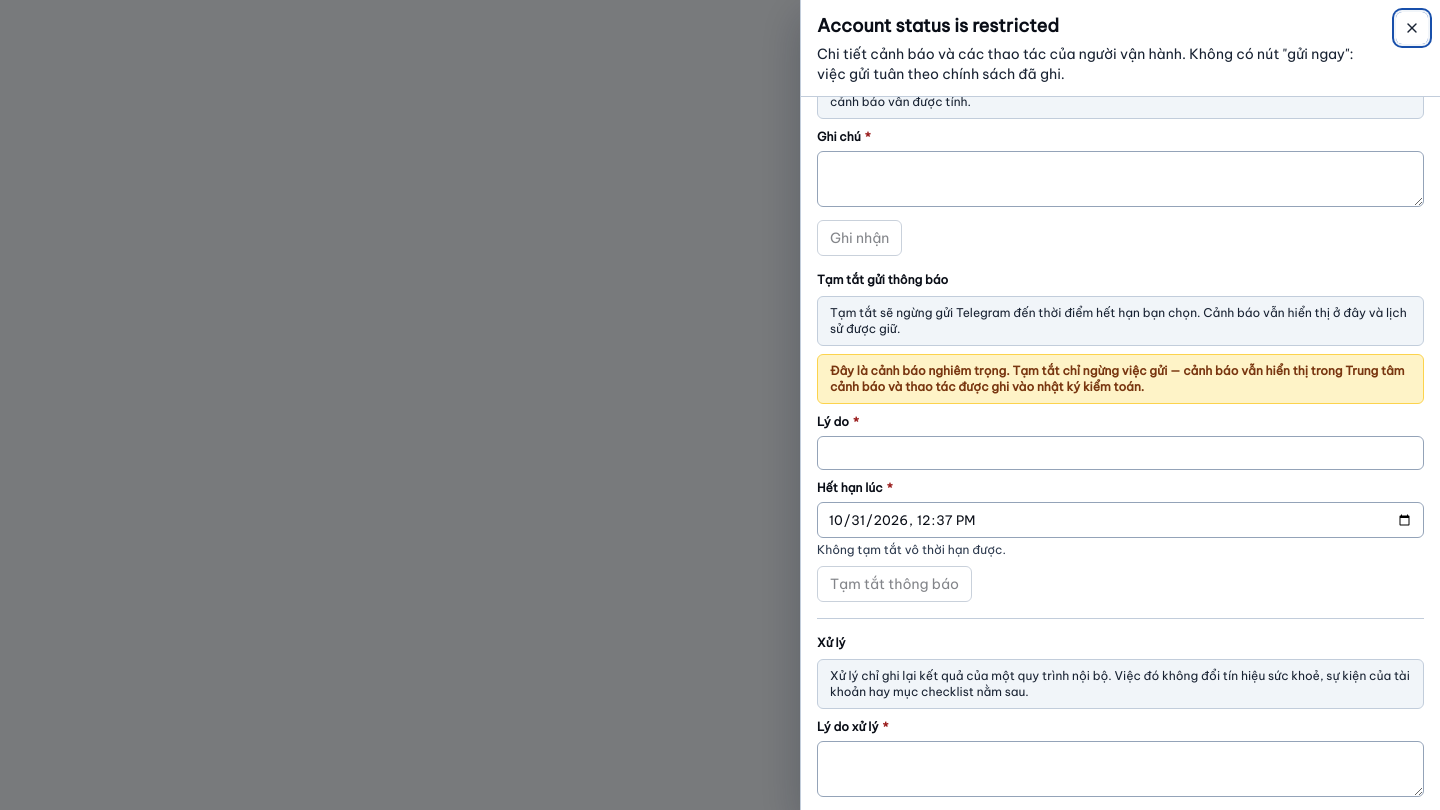
Test: alert drawer › requires a reason and a future expiry before suppressing, and warns on a critical alert
The width and height of the screenshot is (1440, 810).
(page scrolled)
Expected: the button "Tạm tắt thông báo" is disabled, [817,566,972,602]
Expected: the text "Tạm tắt chỉ ngừng việc gửi" is shown, [830,363,1404,394]
Type "Appeal filed." into the field labelled "Lý do*" at (1120, 453), box [817,436,1424,470]
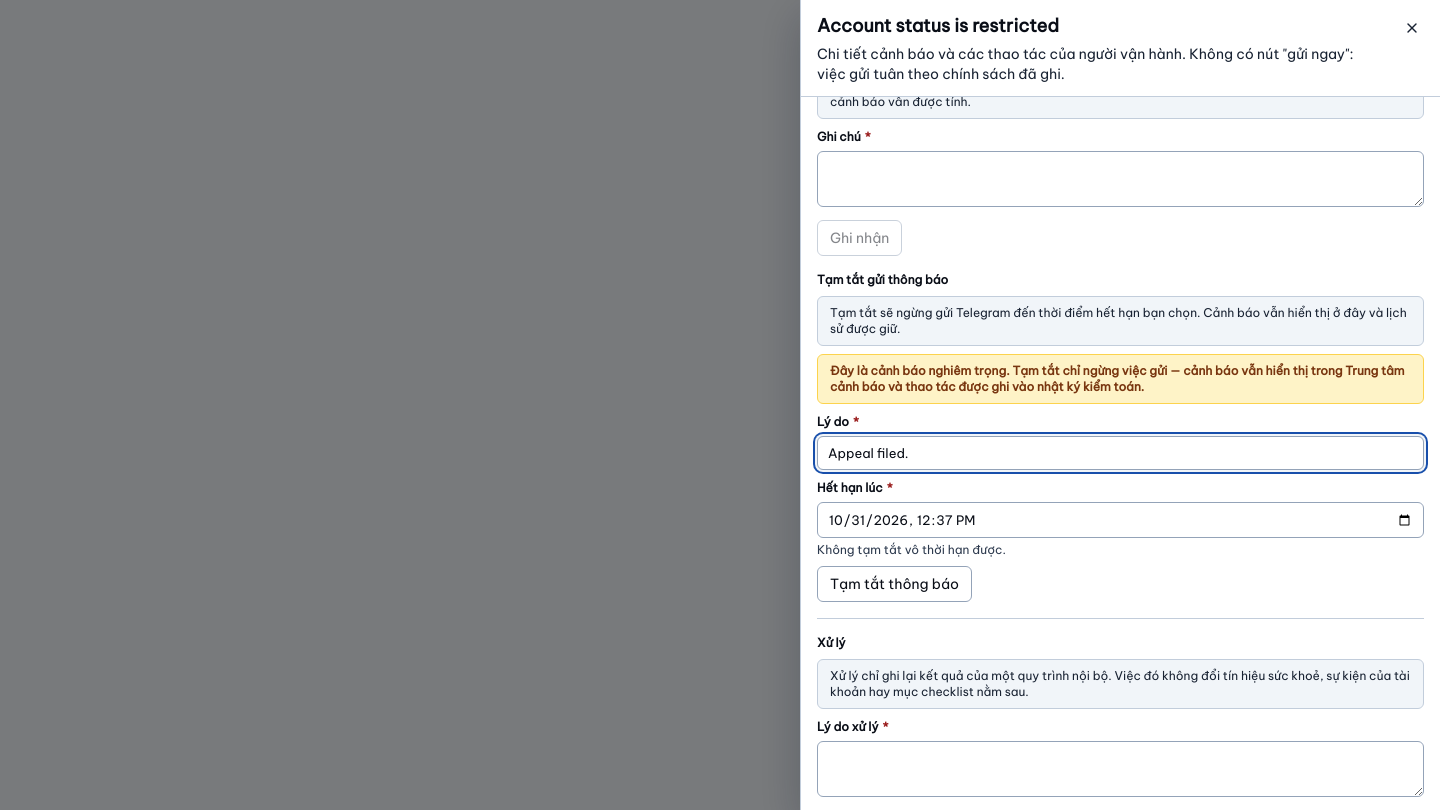
Expected: the field labelled "Hết hạn lúc* Không tạm tắt vô thời hạn được." is not empty, [817,502,1424,538]
Result: the button "Tạm tắt thông báo" is enabled at [817,566,972,602]
